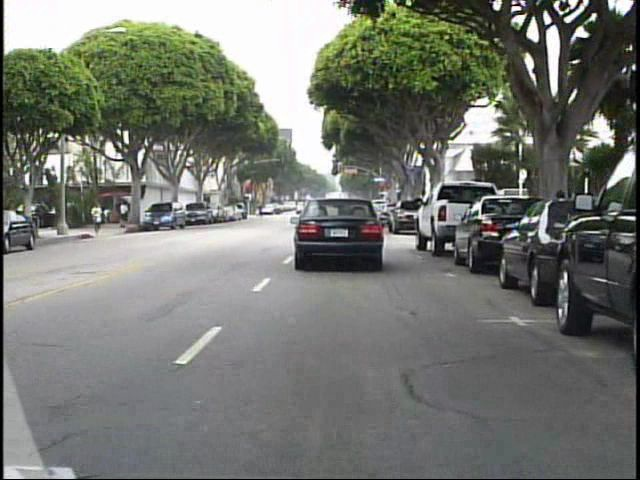person: (90, 197, 108, 238), (119, 198, 131, 230), (255, 200, 270, 224)
